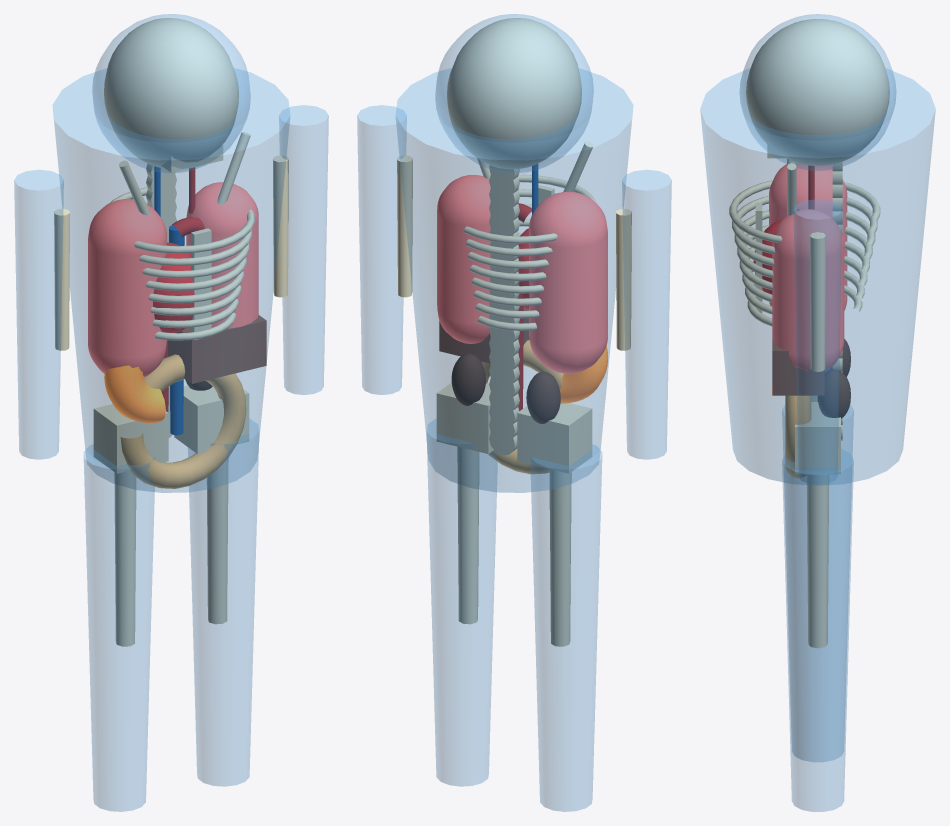
Rendered from anatomy_body.glb.
The picture shows the model from 3 angles, left to right: view 1: azimuth 30°, elevation 25°; view 2: azimuth 150°, elevation 25°; view 3: azimuth 270°, elevation 25°; orthographic projection.
Parts seen in each view (by area): view 1: HumanAnatomyModel, SkeletalSystem, Lungs (×2), InternalOrgans, Liver, Stomach, CirculatorySystem, Heart; view 2: HumanAnatomyModel, SkeletalSystem, Lungs (×2), Kidneys (×2), Stomach, InternalOrgans, Liver, CirculatorySystem; view 3: HumanAnatomyModel, SkeletalSystem, Lungs (×2), Liver, InternalOrgans, Kidneys.
Boxes of the visible parts, x1,y1,x2,y2 form: HumanAnatomyModel: [14, 14, 328, 811]; SkeletalSystem: [54, 18, 288, 646]; Lungs (×2): [88, 182, 258, 376]; InternalOrgans: [120, 354, 246, 488]; Liver: [168, 315, 266, 383]; Stomach: [104, 365, 165, 423]; CirculatorySystem: [154, 166, 204, 435]; Heart: [153, 242, 194, 332]; HumanAnatomyModel: [357, 14, 671, 811]; SkeletalSystem: [397, 18, 631, 646]; Lungs (×2): [437, 175, 607, 373]; Kidneys (×2): [451, 353, 560, 423]; Stomach: [559, 346, 608, 403]; InternalOrgans: [481, 340, 563, 474]; Liver: [439, 307, 529, 363]; CirculatorySystem: [518, 164, 538, 410]; HumanAnatomyModel: [700, 14, 935, 811]; SkeletalSystem: [729, 19, 889, 648]; Lungs (×2): [769, 163, 847, 371]; Liver: [772, 340, 824, 395]; InternalOrgans: [785, 395, 810, 477]; Kidneys: [818, 369, 850, 418].
Size of the model in its own units: 1.07 by 2.54 by 0.72.
